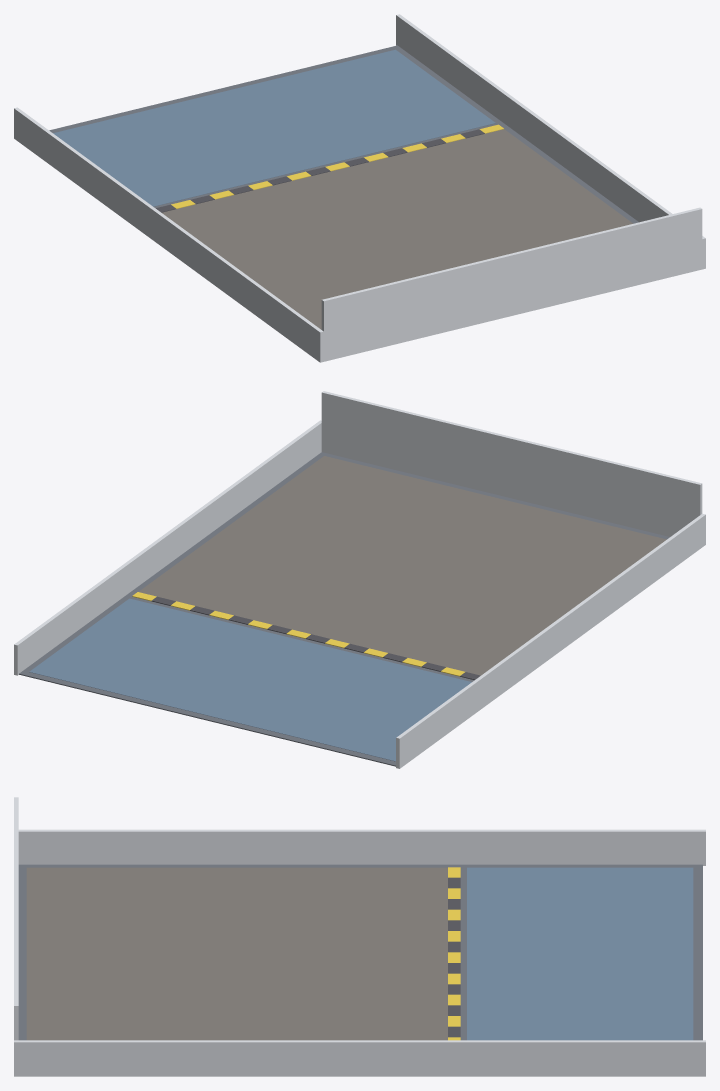
The model's file is wing-bay-s.glb.
The picture shows the model from 3 angles, top to bottom: view 1: azimuth 30°, elevation 25°; view 2: azimuth 150°, elevation 25°; view 3: azimuth 270°, elevation 25°; orthographic projection. The views are drawn at different scales.
Visible parts, largest first — view 1: Training bay; view 2: Training bay; view 3: Training bay.
Part boxes in pixels (x1=…): Training bay: x1=14, y1=14, x2=705, y2=362; Training bay: x1=14, y1=391, x2=705, y2=768; Training bay: x1=14, y1=797, x2=705, y2=1076.
Bounding box in the file's own units: 16 × 2.4 × 22.
